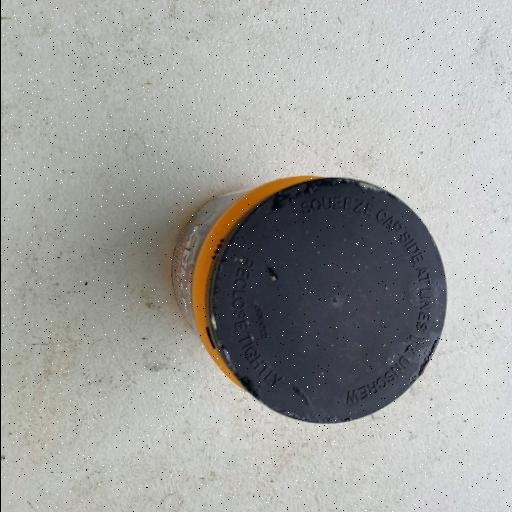Plastic: (168, 172, 450, 427)
